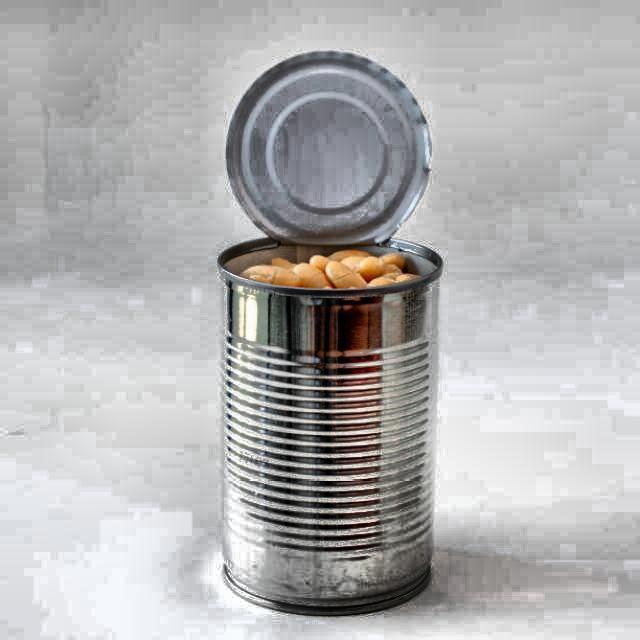metal: (218, 51, 443, 619)
